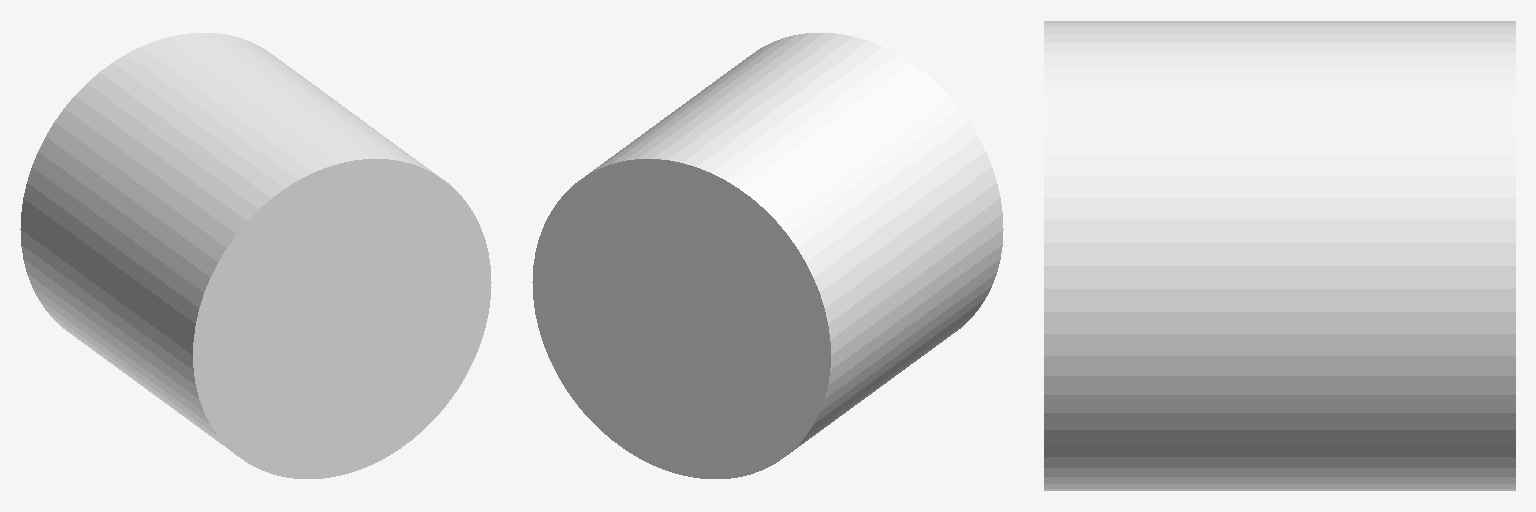
The robot description file, URDF, robot "cup_white.urdf":
<?xml version="1.0" ?>
<robot name="cup_white.urdf">
  <link name="baseLink">
    <!--<contact>
      <lateral_friction value="1.0"/>
      <inertia_scaling value="3.0"/>
    </contact>
    <inertial>
      <origin rpy="0 0 0" xyz="-0.01 0 0.02"/>
       <mass value=".1"/>
       <inertia ixx="1" ixy="0" ixz="0" iyy="1" iyz="0" izz="1"/>
    </inertial>-->
    <visual>
      <geometry>
        <mesh filename="cup.obj" scale="1 1 1"/>
      </geometry>
      <material name ="white">
        <color rgba="1 1 1 1"/>
      </material>
    </visual>
    <collision>
      <geometry>
        <mesh filename="cup.obj" scale="1 1 1"/>
      </geometry>
    </collision>
    <inertial>
      <mass value="10"/>
      <inertia ixx="0.4" ixy="0.0" ixz="0.0" iyy="0.4" iyz="0.0" izz="0.2"/>
    </inertial>
  </link>
</robot>

--- Facts derived from the render (not from the file) ---
The picture shows the robot from 3 angles, left to right: view 1: azimuth 30°, elevation 25°; view 2: azimuth 150°, elevation 25°; view 3: azimuth 270°, elevation 25°; orthographic projection.
Model cup_white.urdf with 1 links and 0 joints (none), rooted at baseLink, posed every joint at zero.
Visible links, largest first — view 1: baseLink; view 2: baseLink; view 3: baseLink.
Boxes of the visible links, left/top/right/bottom form: baseLink: left=20, top=33, right=491, bottom=478; baseLink: left=532, top=33, right=1003, bottom=478; baseLink: left=1044, top=21, right=1515, bottom=490.
Size in the robot's own frame: 2 by 2 by 2 metres.
1 mesh visuals loaded from 1 distinct referenced files (1 OBJ).
